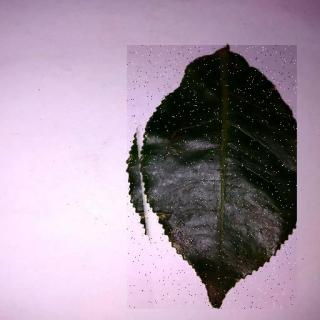Bird Eye Spot: (128, 46, 298, 310)
